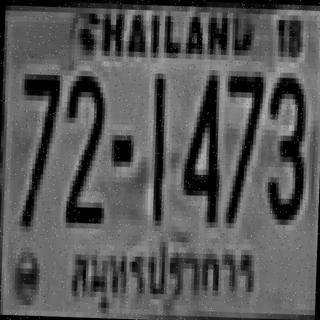N01: (148, 73, 167, 221)
N02: (63, 70, 106, 224)
N03: (265, 72, 306, 220)
N04: (180, 69, 220, 222)
N07: (16, 69, 57, 227), (220, 73, 261, 221)
P57: (61, 233, 260, 316)
